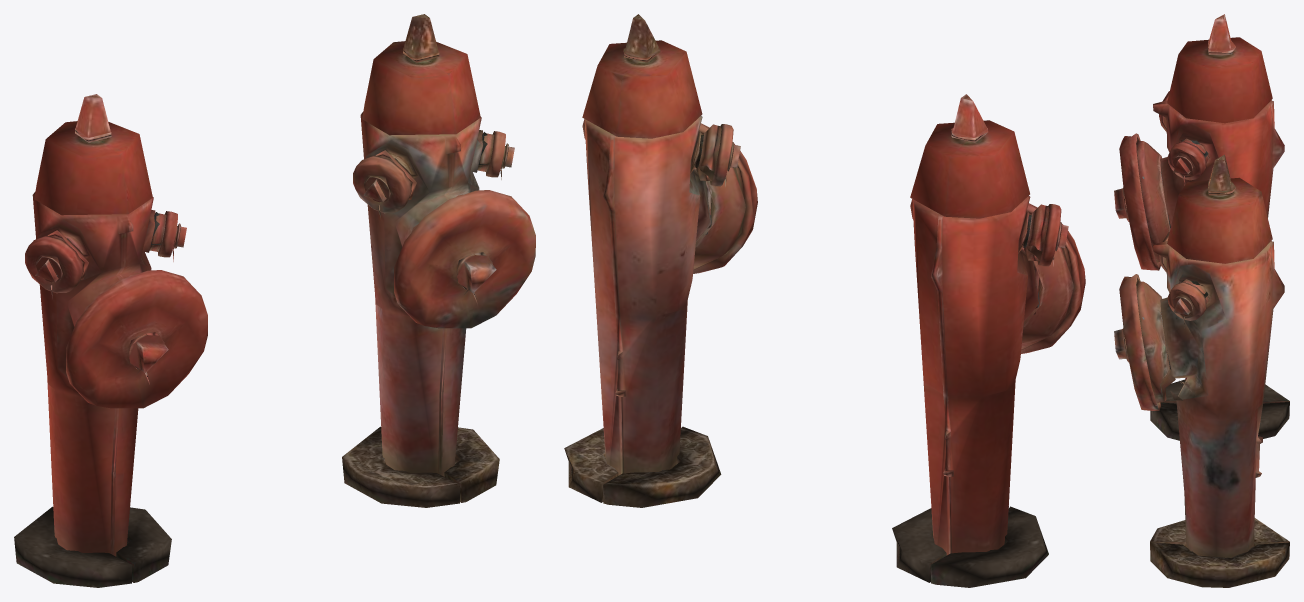
File: fire_hydrant.glb
3 views of the same model, side by side, from view 1: azimuth 30°, elevation 25°; view 2: azimuth 150°, elevation 25°; view 3: azimuth 270°, elevation 25° (orthographic). The views are drawn at different scales.
Parts seen in each view (by area): view 1: fire_hydrant_aged, fire_hydrant, fire_hydrant_cap_01, fire_hydrant_cap_01_aged, fire_hydrant_cap_03, fire_hydrant_cap_03_aged, fire_hydrant_cap_02_aged, fire_hydrant_cap_02; view 2: fire_hydrant_aged, fire_hydrant, fire_hydrant_cap_01_aged, fire_hydrant_cap_01, fire_hydrant_cap_03, fire_hydrant_cap_03_aged; view 3: fire_hydrant_aged, fire_hydrant, fire_hydrant_cap_01, fire_hydrant_cap_01_aged, fire_hydrant_cap_02, fire_hydrant_cap_02_aged.
Boxes of the visible parts, x1=… form: fire_hydrant_aged: x1=342, y1=14, x2=499, y2=507; fire_hydrant: x1=14, y1=94, x2=171, y2=587; fire_hydrant_cap_01: x1=66, y1=270, x2=207, y2=408; fire_hydrant_cap_01_aged: x1=394, y1=190, x2=535, y2=328; fire_hydrant_cap_03: x1=25, y1=235, x2=83, y2=293; fire_hydrant_cap_03_aged: x1=353, y1=155, x2=411, y2=213; fire_hydrant_cap_02_aged: x1=486, y1=131, x2=514, y2=177; fire_hydrant_cap_02: x1=158, y1=211, x2=186, y2=257; fire_hydrant_aged: x1=564, y1=14, x2=745, y2=507; fire_hydrant: x1=892, y1=94, x2=1073, y2=587; fire_hydrant_cap_01_aged: x1=693, y1=123, x2=757, y2=273; fire_hydrant_cap_01: x1=1021, y1=203, x2=1085, y2=353; fire_hydrant_cap_03: x1=1037, y1=204, x2=1068, y2=266; fire_hydrant_cap_03_aged: x1=710, y1=124, x2=740, y2=186; fire_hydrant_aged: x1=1137, y1=154, x2=1289, y2=587; fire_hydrant: x1=1137, y1=14, x2=1289, y2=440; fire_hydrant_cap_01: x1=1114, y1=133, x2=1160, y2=270; fire_hydrant_cap_01_aged: x1=1114, y1=274, x2=1160, y2=410; fire_hydrant_cap_02: x1=1167, y1=141, x2=1206, y2=180; fire_hydrant_cap_02_aged: x1=1167, y1=282, x2=1206, y2=320.
Size of the model in its own units: 0.8743 by 0.7992 by 0.3173.
Materials: 2 (2 with a texture image).
